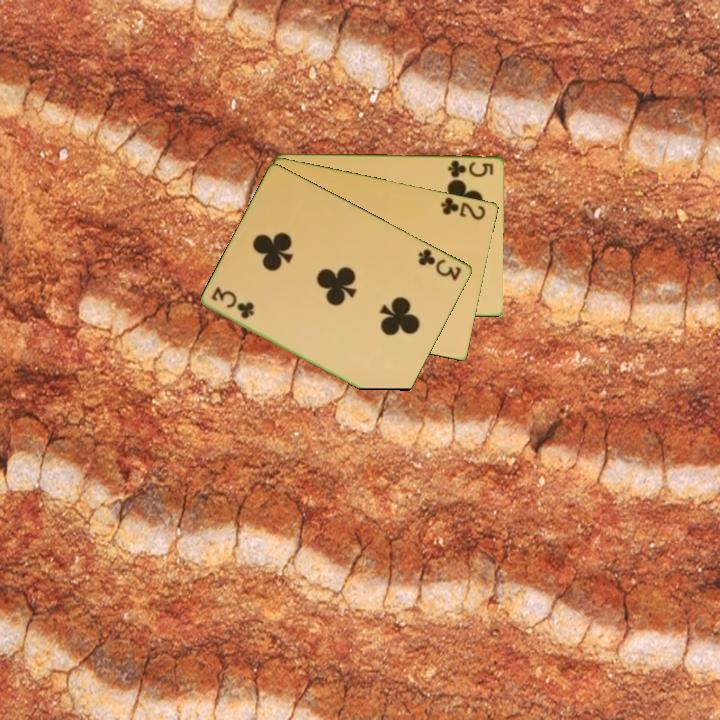2c: (437, 193, 489, 223)
3c: (415, 245, 465, 284), (208, 285, 258, 322)
5c: (445, 157, 497, 180)
